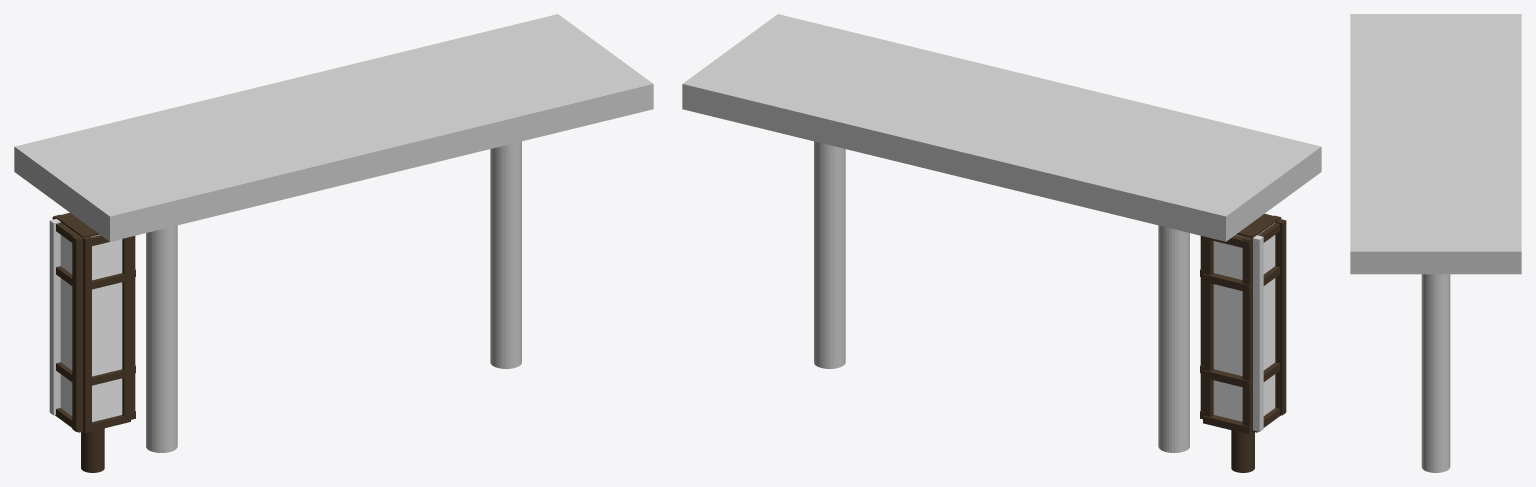
The picture shows the model from 3 angles, left to right: view 1: azimuth 30°, elevation 25°; view 2: azimuth 150°, elevation 25°; view 3: azimuth 270°, elevation 25°; orthographic projection. The views are drawn at different scales.
Parts seen in each view (by area): view 1: Cylinder.001, d.001, Cube.004, Cube, Cube.002, Cube.007, Cylinder, Cube.008; view 2: Cylinder.001, d.001, Cube, Cube.004, Cube.003, Cube.006, Cylinder; view 3: Cylinder.001.
Part boxes in pixels (x1,y1,x2,y2): Cylinder.001: [14, 14, 653, 452]; d.001: [60, 222, 122, 421]; Cube.004: [49, 219, 60, 415]; Cube: [72, 235, 82, 431]; Cube.002: [83, 236, 91, 431]; Cube.007: [122, 237, 130, 422]; Cylinder: [81, 428, 104, 472]; Cube.008: [131, 236, 135, 411]; Cylinder.001: [682, 14, 1321, 452]; d.001: [1213, 222, 1275, 421]; Cube: [1275, 219, 1286, 415]; Cube.004: [1253, 235, 1263, 431]; Cube.003: [1242, 236, 1252, 432]; Cube.006: [1203, 238, 1213, 417]; Cylinder: [1231, 430, 1254, 472]; Cylinder.001: [1350, 14, 1521, 472].
Bounding box in the file's own units: 23.67 × 12.23 × 7.21.
